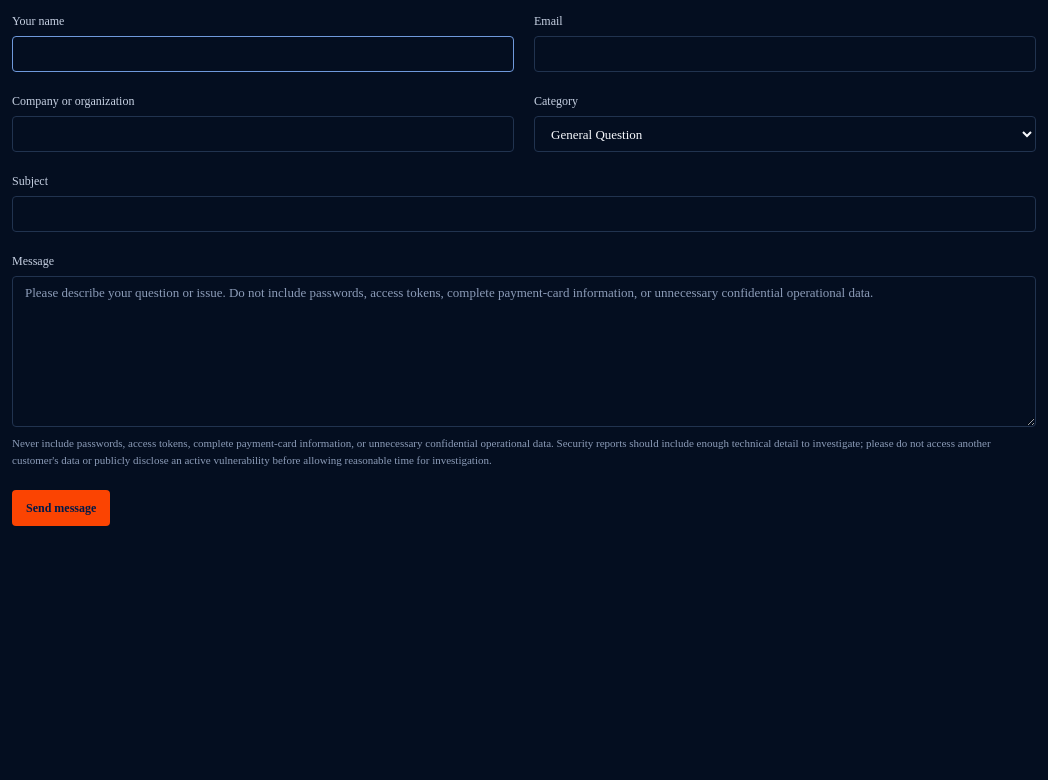
Test: the contact form › falls back to a direct address when sending fails
In the field labelled "Your name": [263, 54] box left=12, top=36, right=514, bottom=72, type "Dana"
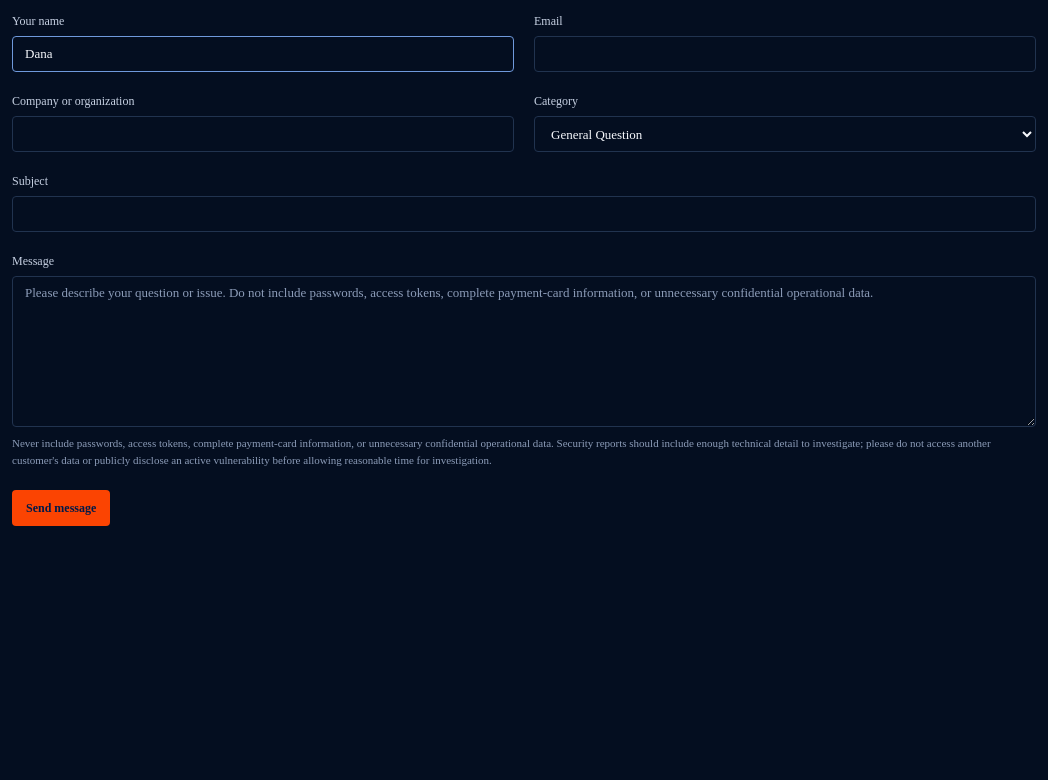
In the field labelled "Email": [785, 54] box left=534, top=36, right=1036, bottom=72, type "dana@operator.example"
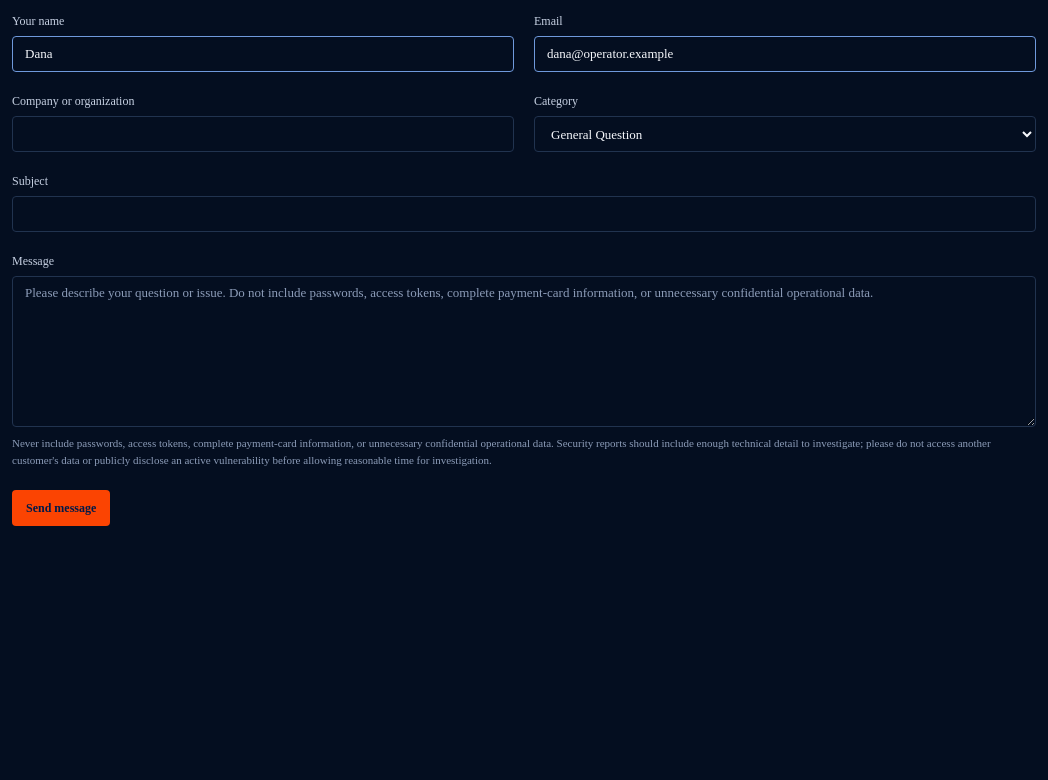
In the field labelled "Subject": [524, 214] box left=12, top=196, right=1036, bottom=232, type "Hi"
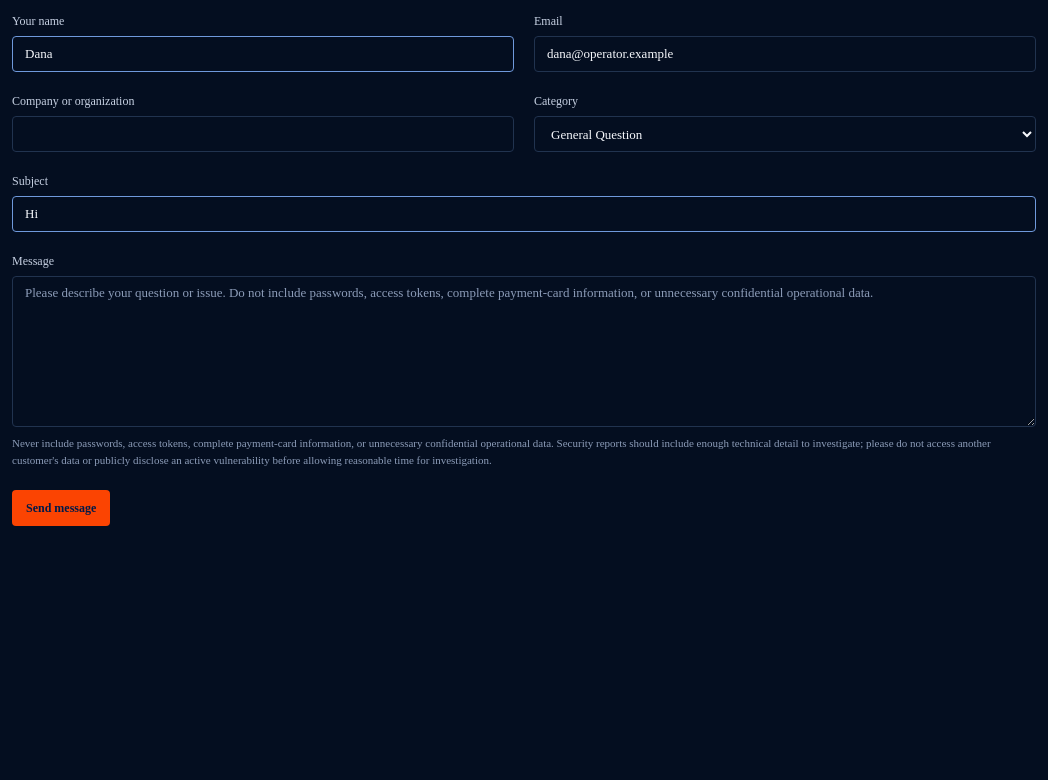
In the text box labelled "Message": [524, 351] box left=12, top=276, right=1036, bottom=426, type "Hello"
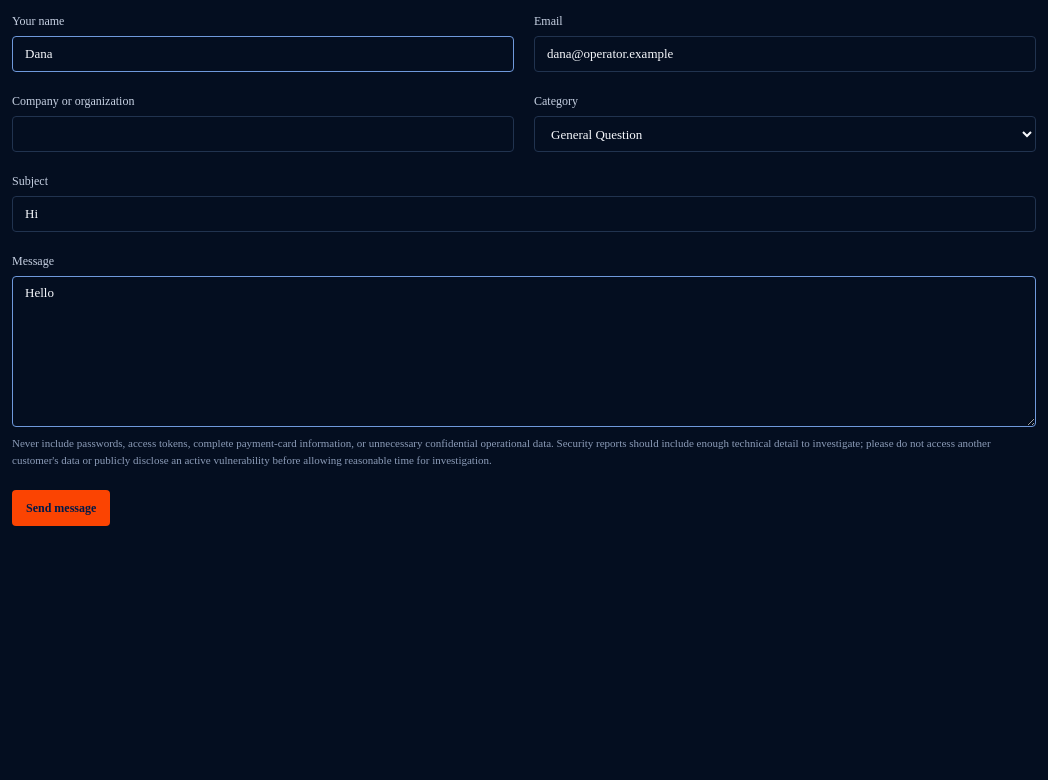
Click the button "Send message": [61, 508] box left=12, top=490, right=110, bottom=526
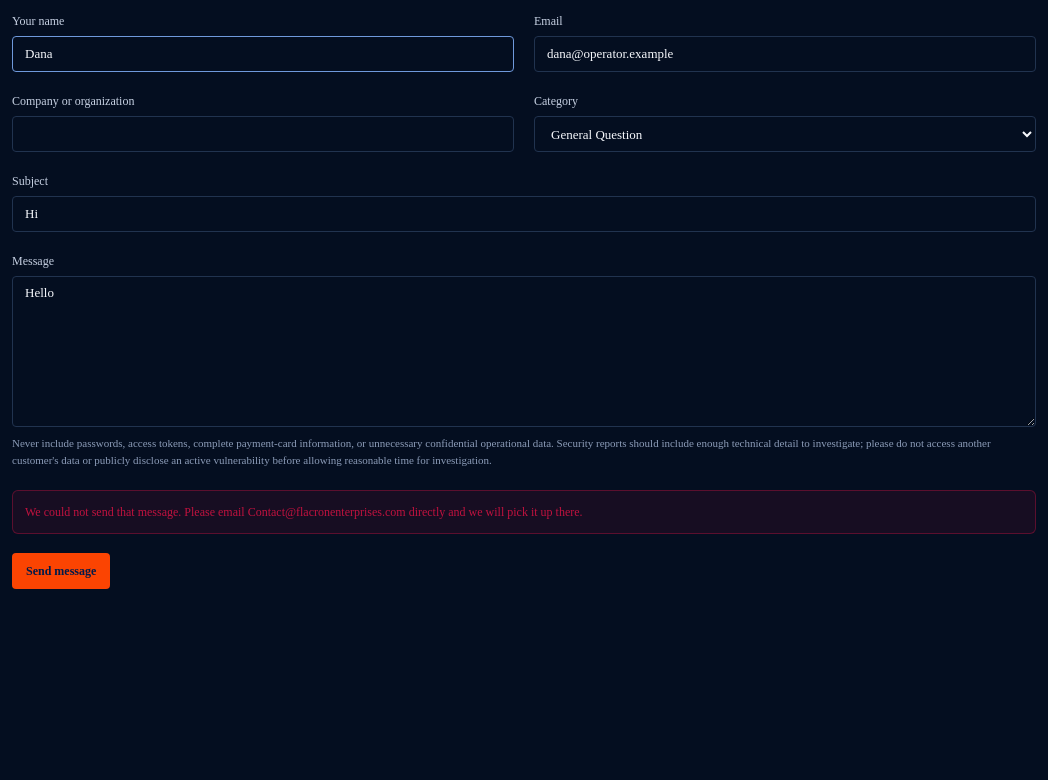
expect the message shows "Contact@flacronenterprises.com": met, box left=25, top=505, right=583, bottom=519
